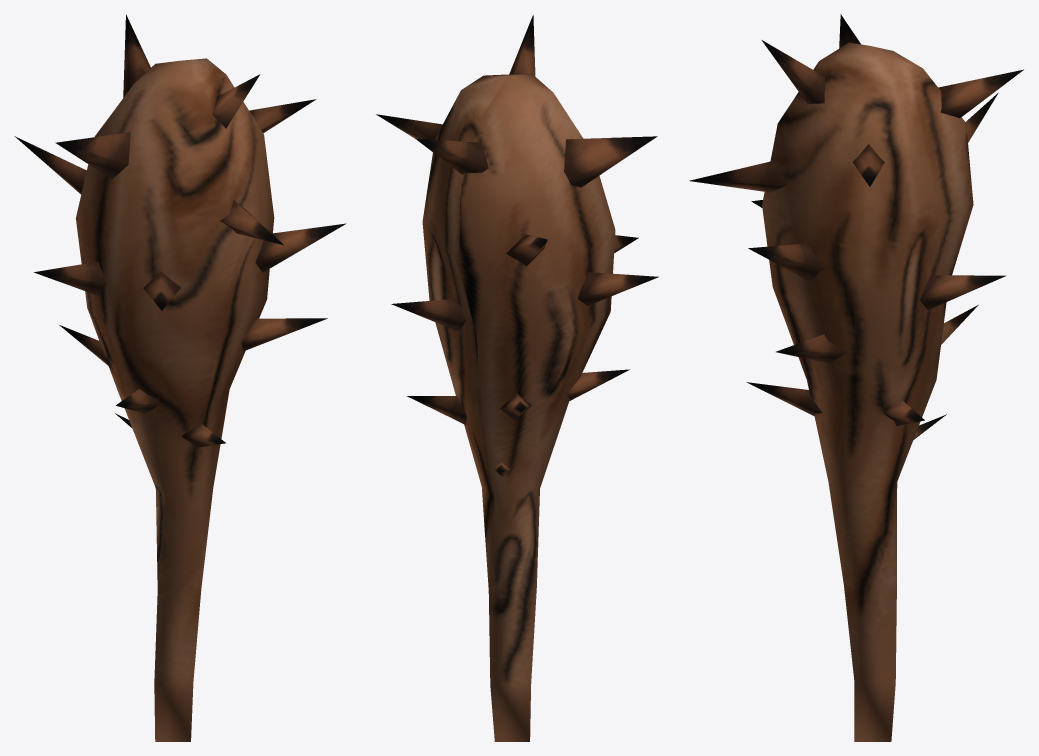
Rendered from WP_OniBeast.FBX.
The picture shows the model from 3 angles, left to right: view 1: azimuth 30°, elevation 25°; view 2: azimuth 150°, elevation 25°; view 3: azimuth 270°, elevation 25°; orthographic projection. The views are drawn at different scales.
Parts seen in each view (by area): view 1: WP_OniBeast; view 2: WP_OniBeast; view 3: WP_OniBeast.
Boxes of the visible parts, box(x1,y1,x2,y2) form: WP_OniBeast: box(14, 14, 346, 741); WP_OniBeast: box(376, 15, 658, 741); WP_OniBeast: box(689, 14, 1023, 741).
Bounding box in the file's own units: 57.23 × 132 × 56.32.
